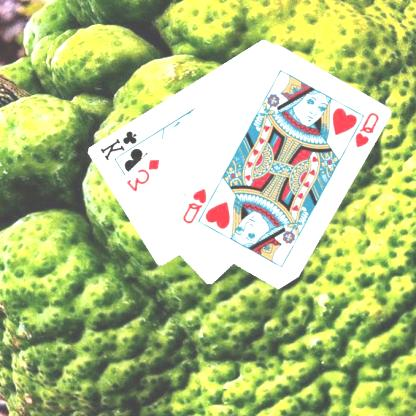3D: (124, 156, 162, 193)
KC: (99, 128, 148, 162)
QH: (344, 109, 382, 150), (181, 185, 210, 226)
